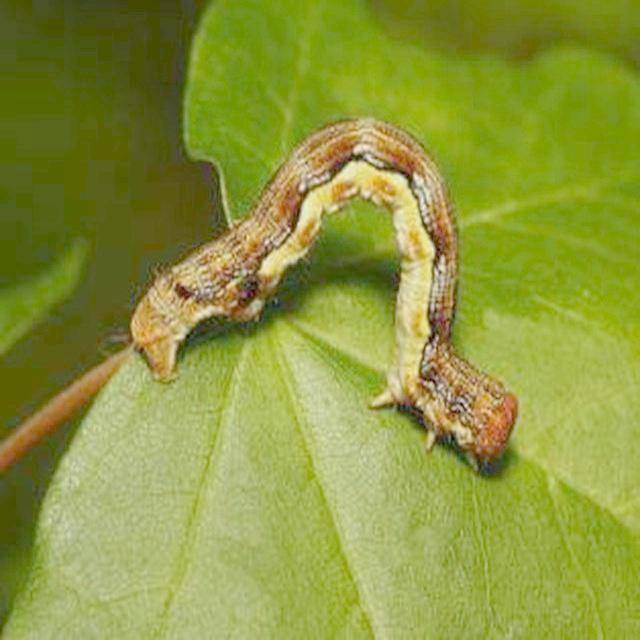Plaga: (131, 121, 516, 468)
